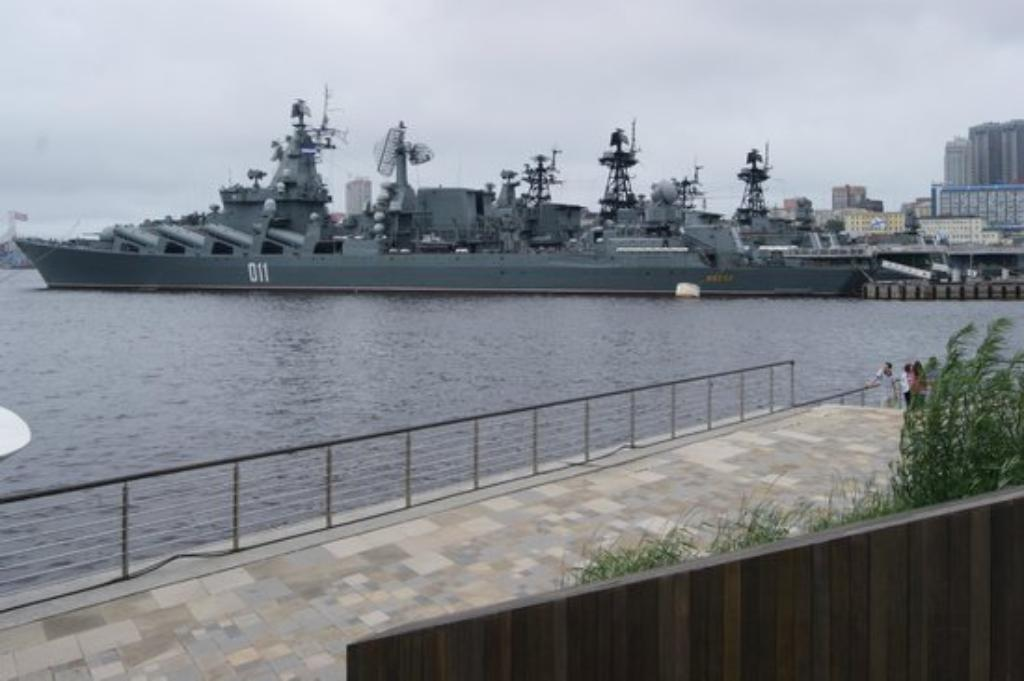Warship: (8, 104, 872, 306)
